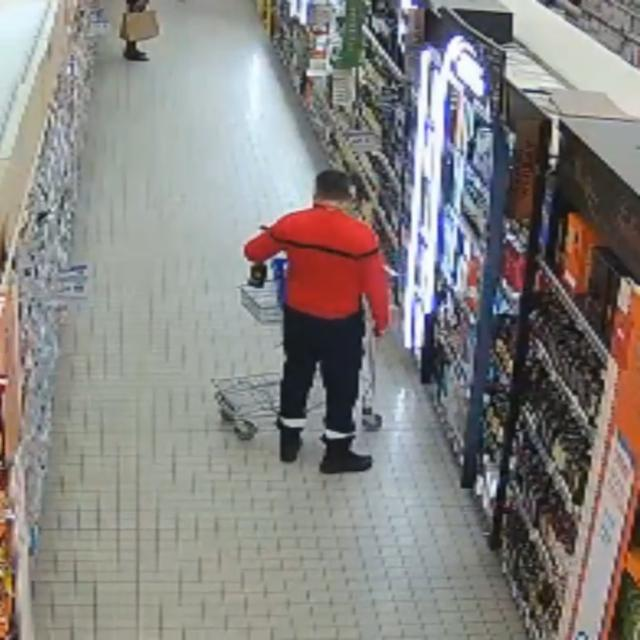article: (248, 263, 266, 290)
bags: (121, 10, 159, 42)
hands: (374, 326, 386, 338)
person: (245, 170, 389, 474), (124, 40, 148, 61)
